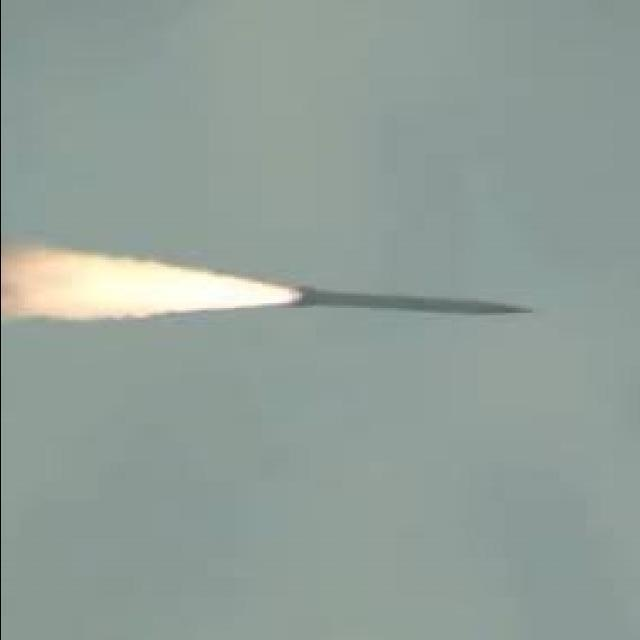Missile: (287, 287, 530, 323)
